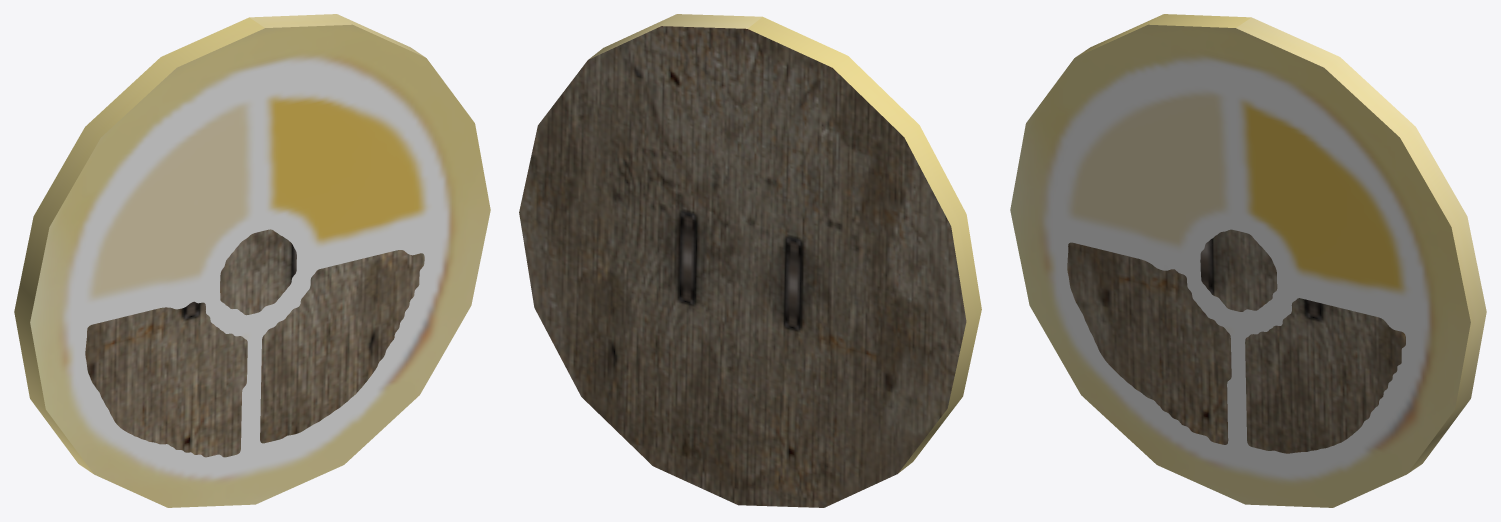
The model's file is shield_zapo_wood_small.dae.
The picture shows the model from 3 angles, left to right: view 1: azimuth 30°, elevation 25°; view 2: azimuth 150°, elevation 25°; view 3: azimuth 330°, elevation 25°; orthographic projection. The views are drawn at different scales.
Visible parts, largest first — view 1: shield_wood_meso_small; view 2: shield_wood_meso_small; view 3: shield_wood_meso_small.
Part boxes in pixels (left/top/right/bottom): shield_wood_meso_small: left=14, top=14, right=490, bottom=507; shield_wood_meso_small: left=519, top=14, right=981, bottom=507; shield_wood_meso_small: left=1010, top=14, right=1486, bottom=507.
Size of the model in its own units: 0.7719 by 0.0738 by 0.7756.
